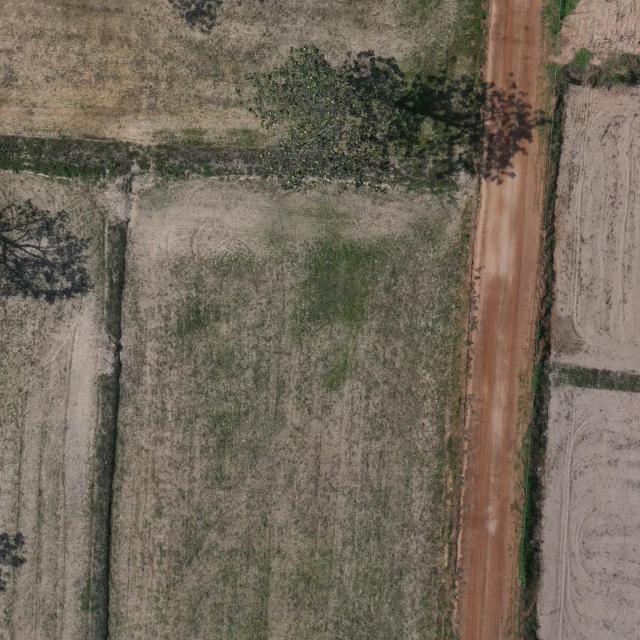Tree: (234, 42, 376, 194)
